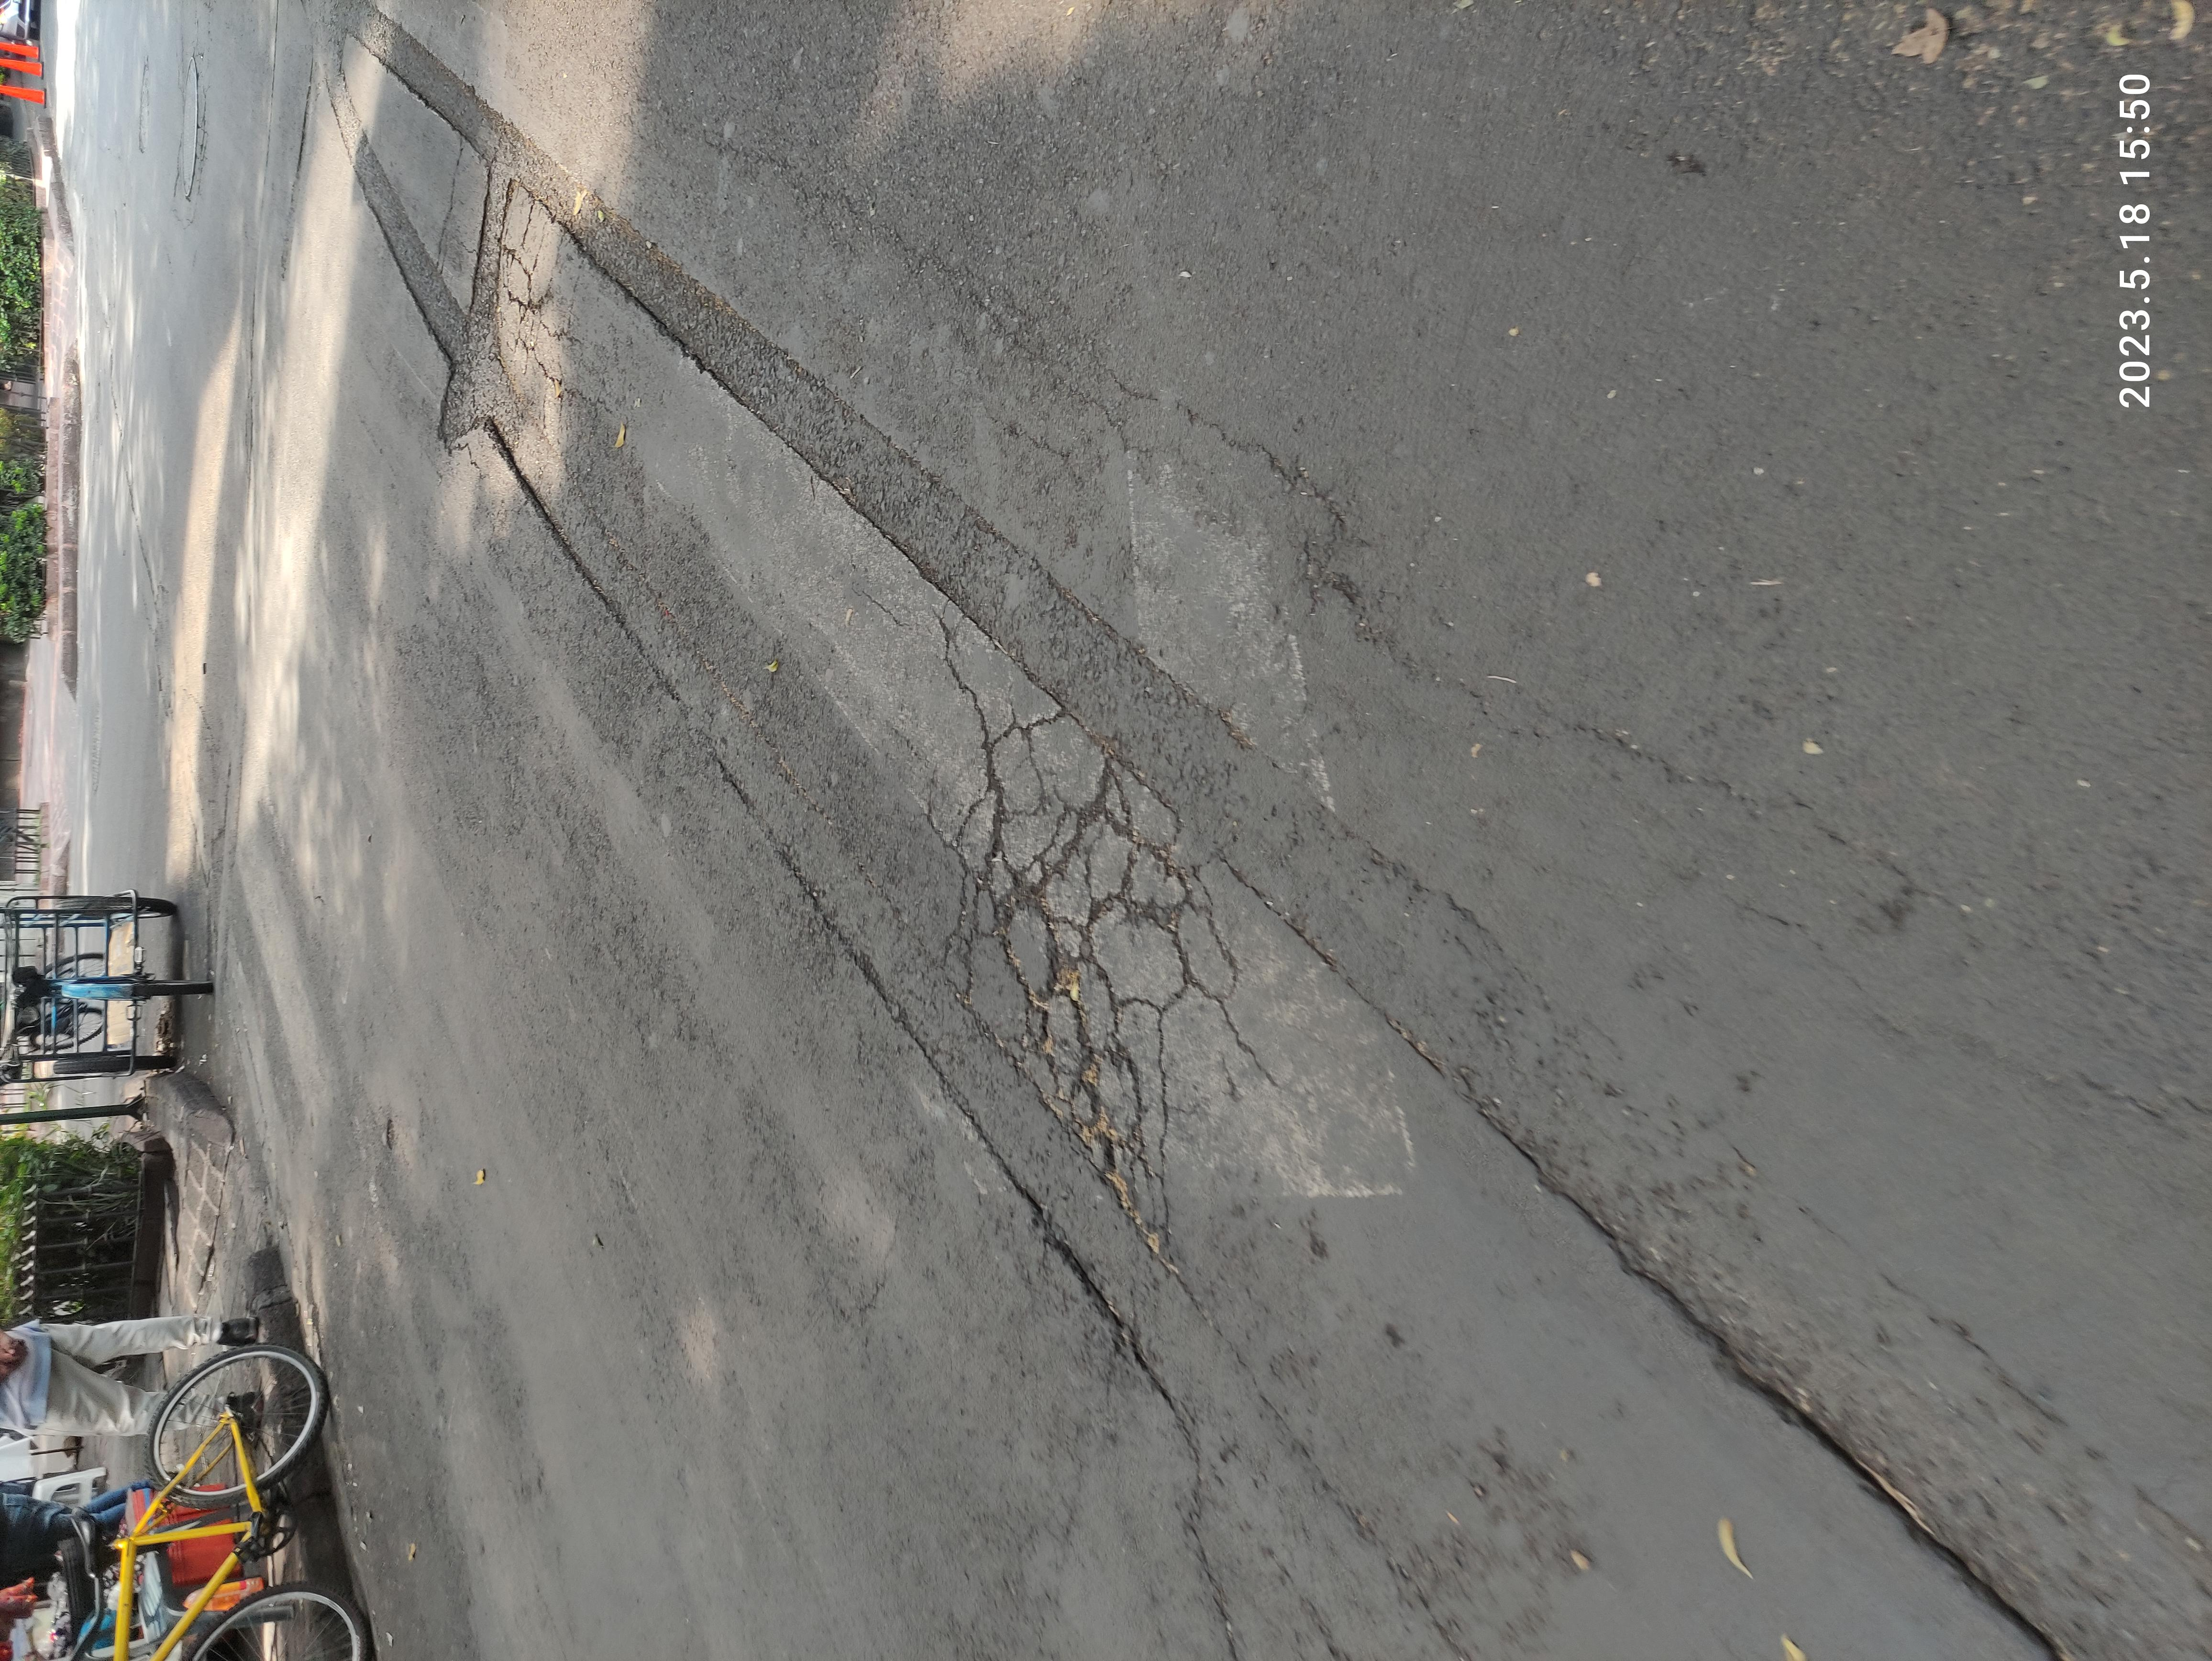alligator-crack: (529, 697, 1398, 941), (1653, 343, 1978, 433)
